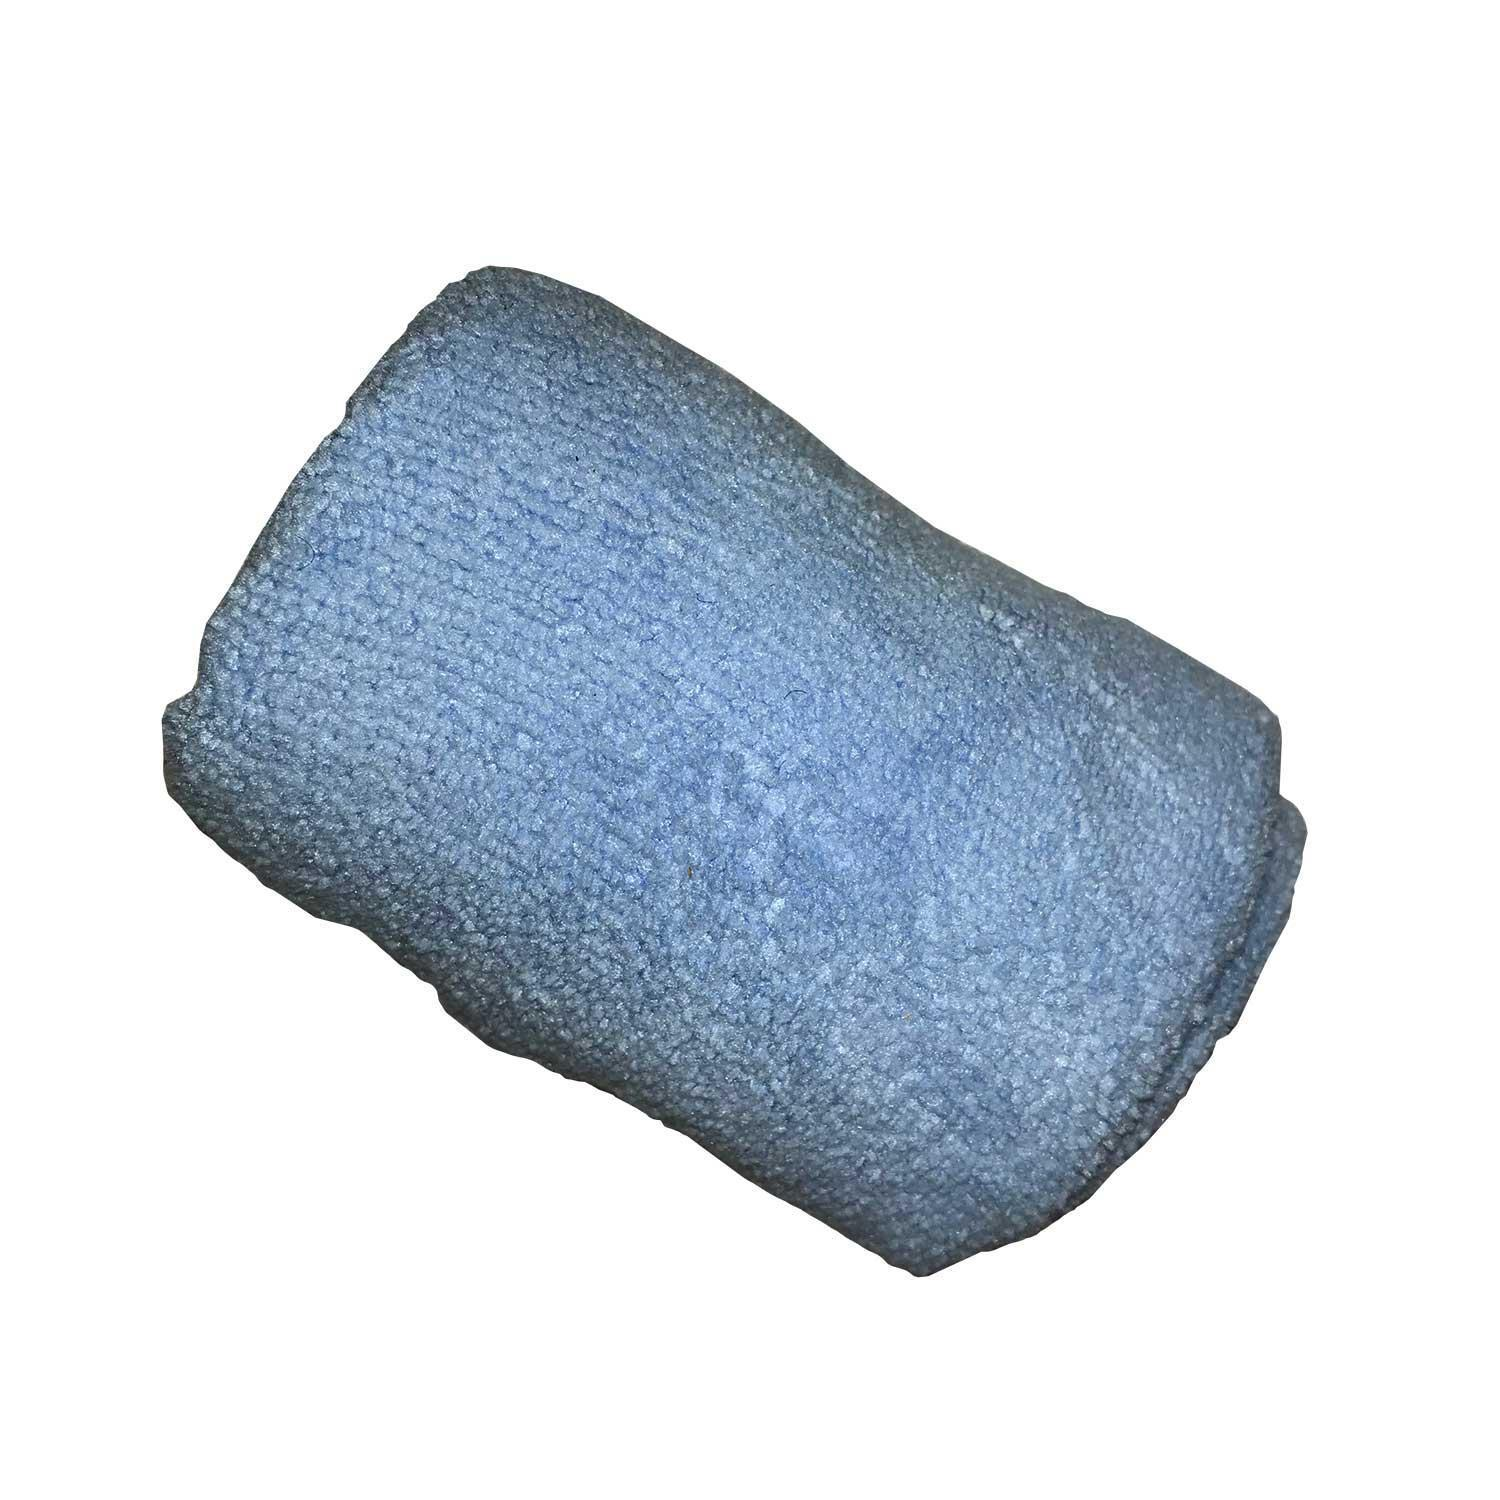towel: (93, 217, 1393, 1283)
